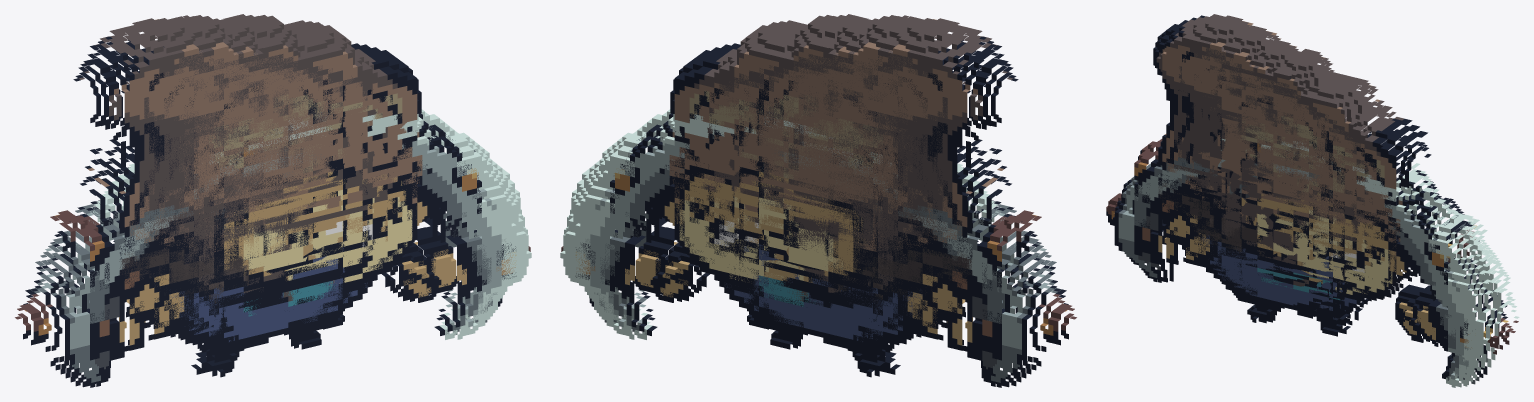
The model's file is picareta_trabalhando.glb.
3 views of the same model, side by side, from view 1: azimuth 30°, elevation 25°; view 2: azimuth 150°, elevation 25°; view 3: azimuth 330°, elevation 25° (orthographic). The views are drawn at different scales.
Parts seen in each view (by area): view 1: q0, q1, q2, q3, q4, q5; view 2: q0, q1, q2, q3, q4, q5; view 3: q0, q2, q1, q3, q4, q5.
Boxes of the visible parts, x1,y1,x2,y2 form: q0: (48,15,352,377); q1: (15,18,342,387); q2: (70,31,531,373); q3: (97,20,516,366); q4: (169,14,481,373); q5: (113,18,367,362); q0: (739,15,1043,377); q1: (755,18,1076,387); q2: (560,31,1021,373); q3: (575,20,994,367); q4: (610,14,922,371); q5: (725,18,978,361); q0: (1132,25,1350,333); q2: (1210,50,1519,387); q1: (1106,14,1336,326); q3: (1221,73,1511,380); q4: (1198,49,1479,334); q5: (1182,39,1371,331).
Bounding box in the file's own units: 101 × 73 × 14.
1 material, 1 textured.
